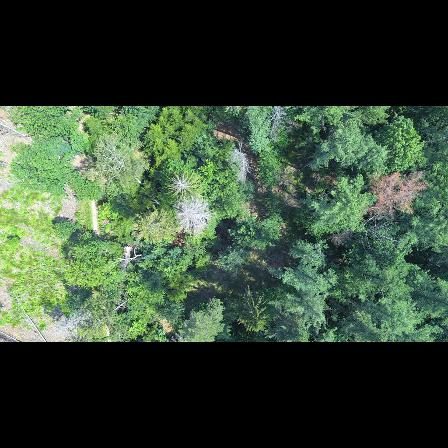Dead: (174, 197, 213, 235), (266, 106, 294, 139), (232, 136, 251, 180)
Sick: (168, 173, 196, 195)
